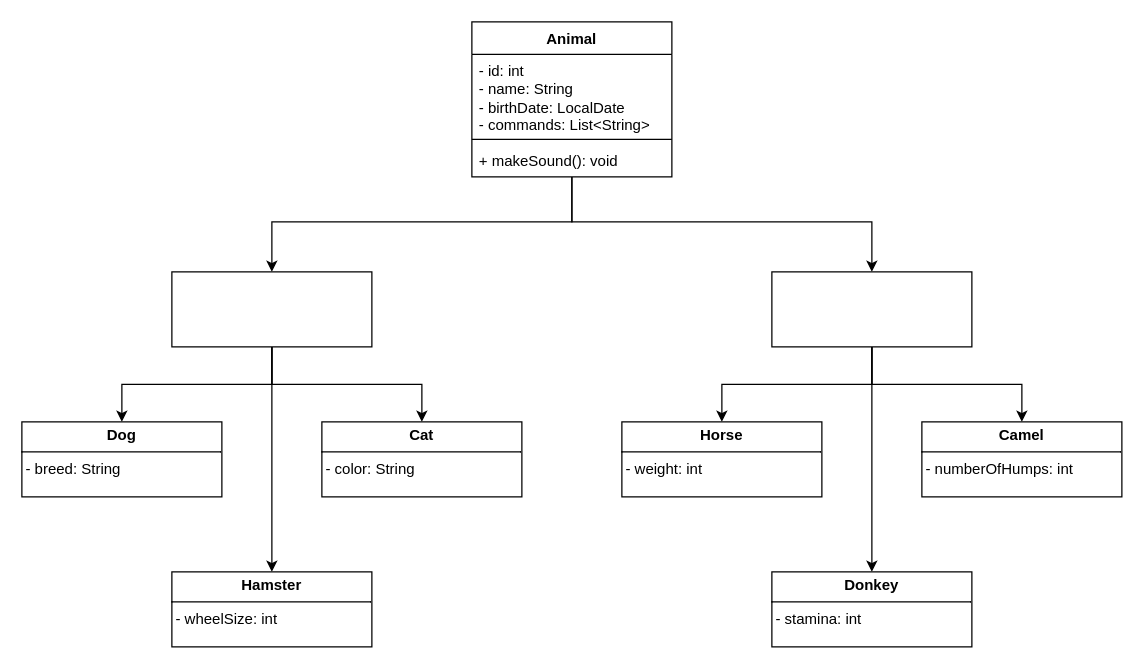
Some shapes in this 1144 by 669 pixel diagram are drawn without their labels. Here are the shapes that lost their labels. From the top down, the centre of each, then its label:
At point (271, 309): "Pet + play(): void".
At point (871, 309): "PackAnimal + carryLoad(): void".
